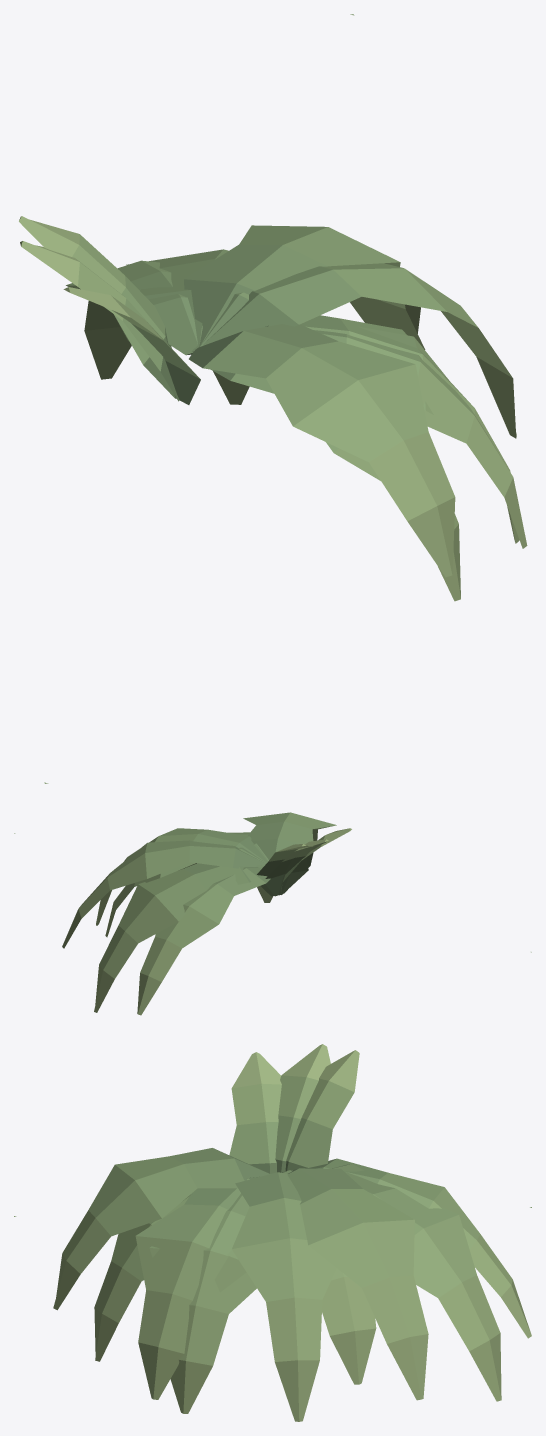
Rendered from CreekFern2_leaf.glb.
3 views of the same model, one above another, from view 1: azimuth 30°, elevation 25°; view 2: azimuth 150°, elevation 25°; view 3: azimuth 270°, elevation 25° (orthographic). The views are drawn at different scales.
Visible parts, largest first — view 1: CreekFern2_leaf; view 2: CreekFern2_leaf; view 3: CreekFern2_leaf.
Part boxes in pixels (x1,y1,x2,y2): CreekFern2_leaf: (19, 14, 527, 783); CreekFern2_leaf: (14, 812, 531, 1015); CreekFern2_leaf: (14, 1044, 531, 1421).
Bounding box in the file's own units: 4.19 × 2.02 × 3.93.
